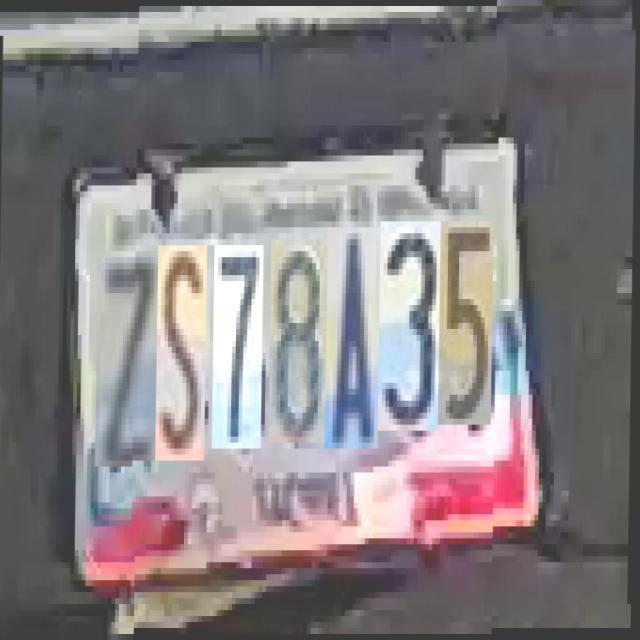3: (379, 221, 441, 431)
5: (439, 222, 494, 424)
7: (213, 246, 264, 448)
8: (270, 239, 328, 443)
A: (326, 227, 381, 449)
S: (156, 245, 208, 460)
Z: (97, 251, 159, 461)
